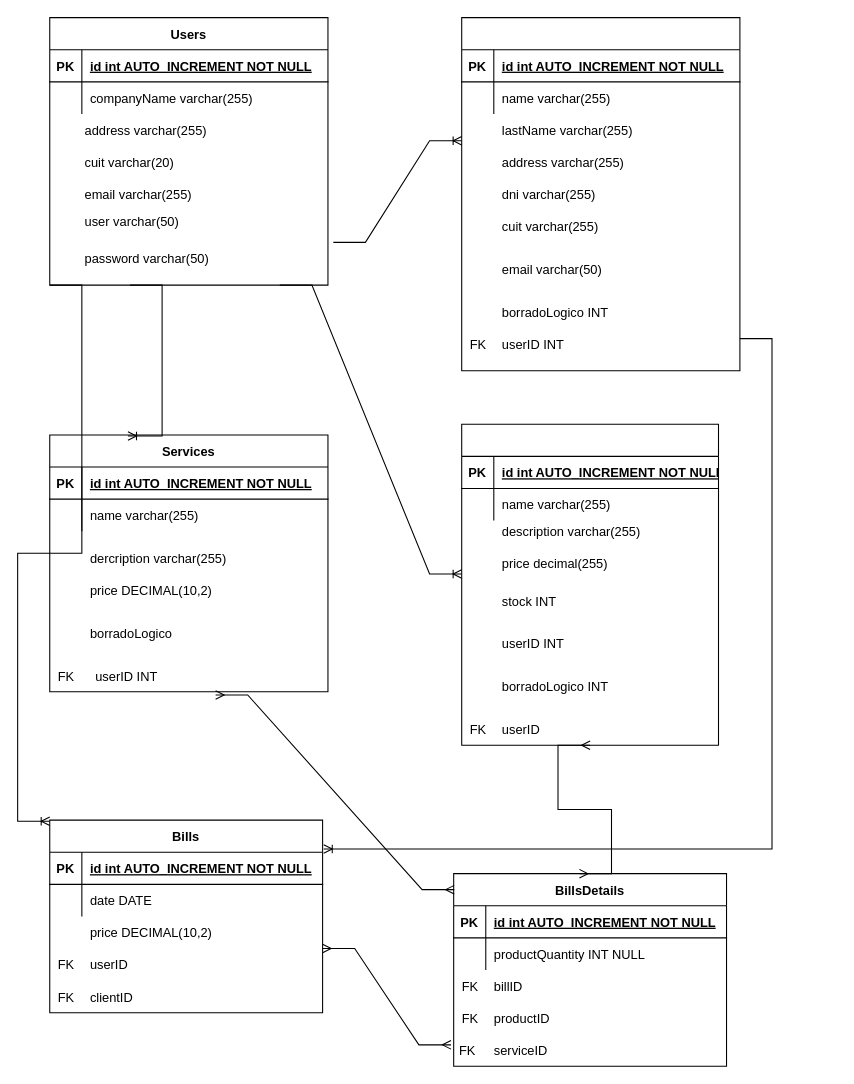
This 854x1084 diagram has some shape labels left out. Each missing label, with the box of its shape:
Clients: (461, 17, 740, 371)
Products: (461, 423, 719, 745)
